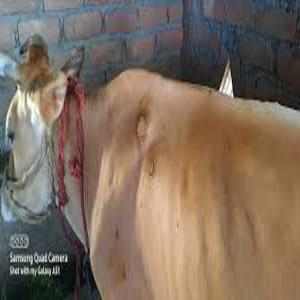lumpy skin diesease: (0, 35, 299, 299)
